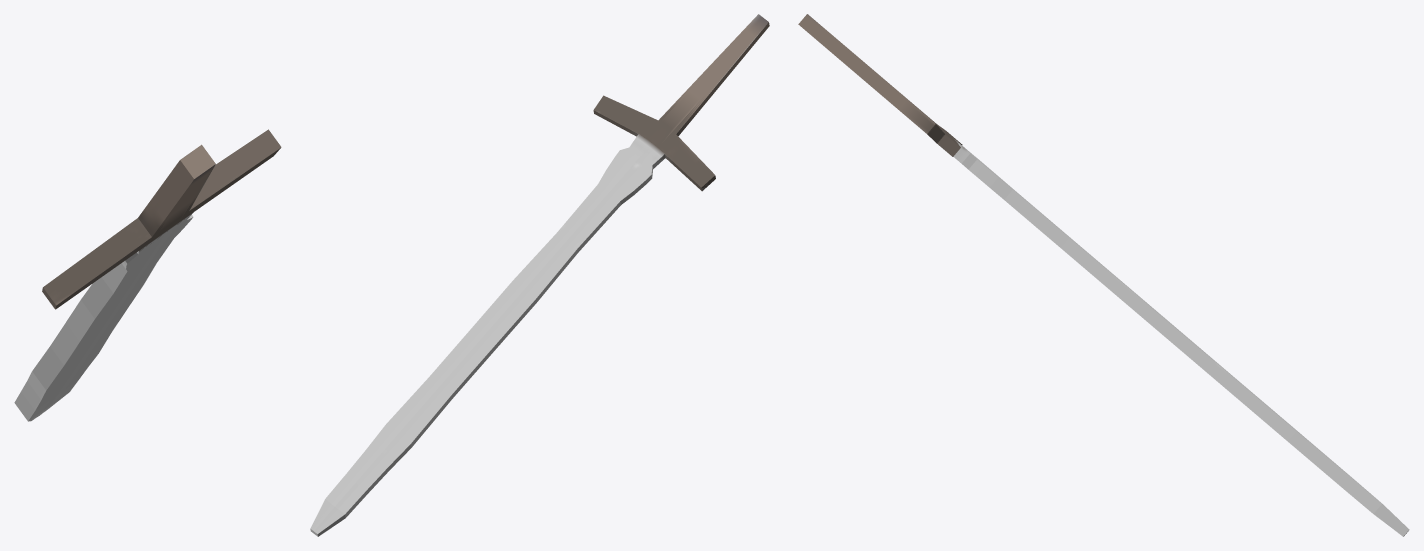
The model's file is sword_000043.obj.
The picture shows the model from 3 angles, left to right: view 1: azimuth 30°, elevation 25°; view 2: azimuth 150°, elevation 25°; view 3: azimuth 270°, elevation 25°; orthographic projection. The views are drawn at different scales.
Size of the model in its own units: 0.2346 by 0.4125 by 0.5385.
